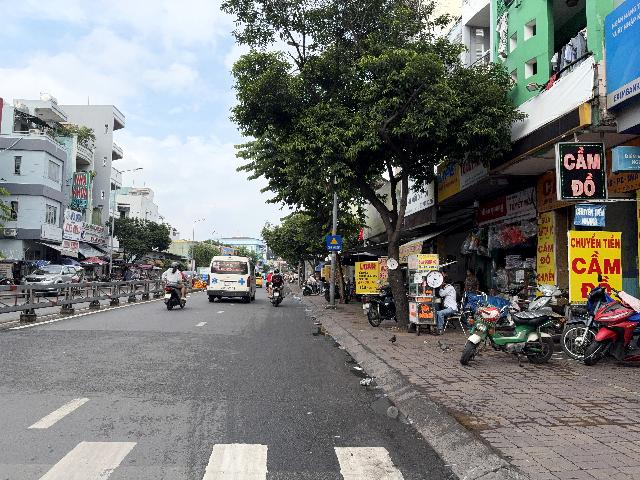khu-vuc-cho-phia-truoc: (327, 235, 342, 251)
